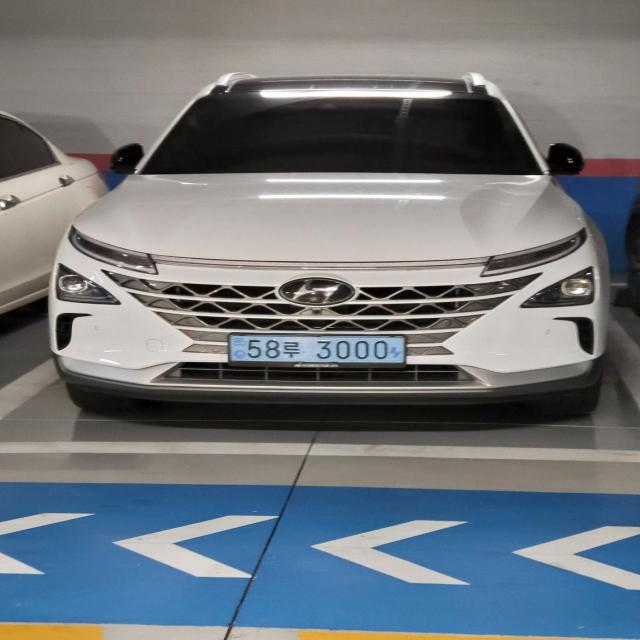EV_plate: (225, 334, 412, 378)
car: (45, 66, 619, 428)
